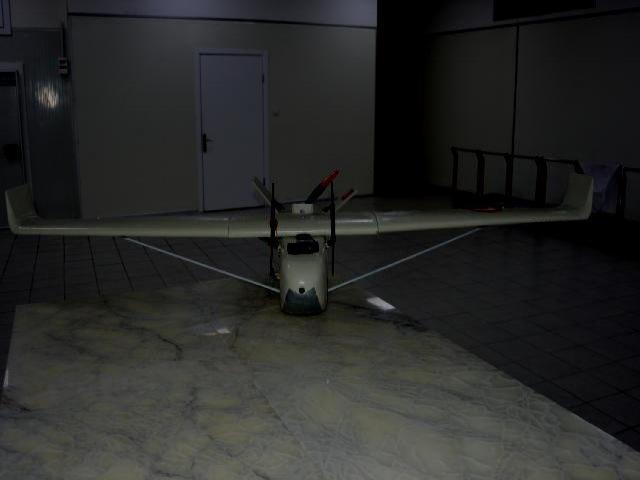iha: (2, 160, 607, 322)
